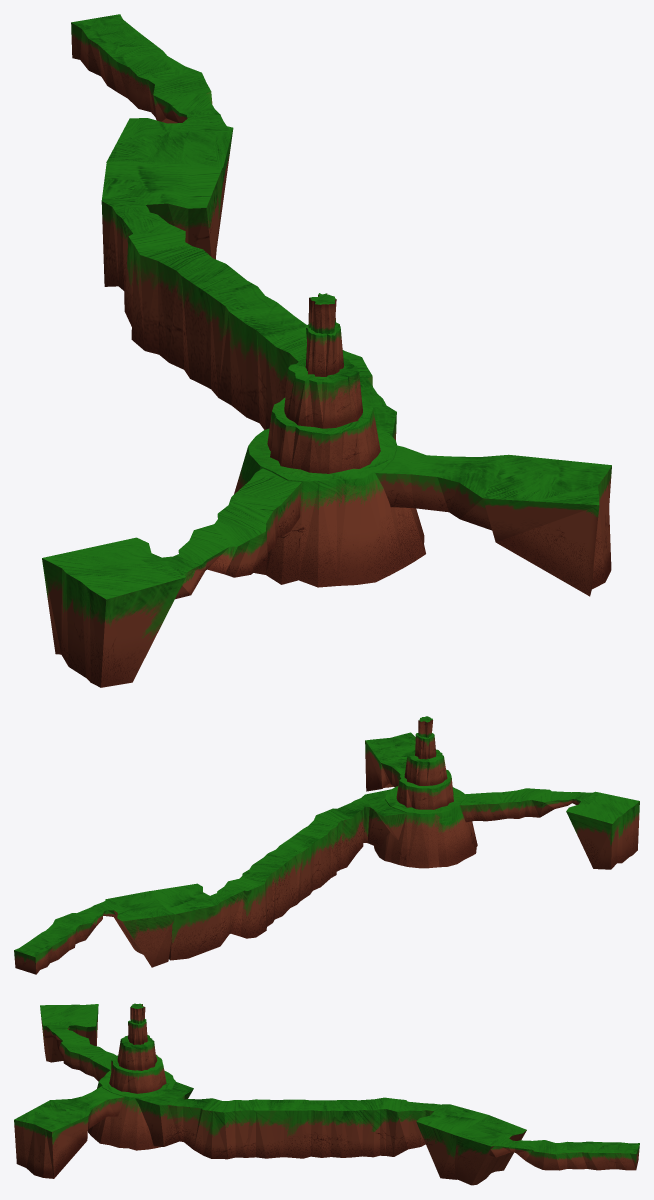
Rendered from IslandStart.fbx.
3 views of the same model, one above another, from view 1: azimuth 30°, elevation 25°; view 2: azimuth 150°, elevation 25°; view 3: azimuth 270°, elevation 25° (orthographic). The views are drawn at different scales.
Parts seen in each view (by area): view 1: Cube.003, Cylinder, Cube, Cube.001, Cube.004; view 2: Cube.003, Cylinder, Cube, Cube.004, Cube.001; view 3: Cube.003, Cube.004, Cylinder, Cube.001, Cube.
Part boxes in pixels (x1,y1,x2,y2): Cube.003: [101, 160, 396, 440]; Cylinder: [234, 293, 425, 587]; Cube: [42, 468, 301, 687]; Cube.001: [375, 445, 611, 596]; Cube.004: [71, 14, 233, 245]; Cube.003: [150, 789, 406, 960]; Cylinder: [374, 716, 477, 868]; Cube: [460, 788, 639, 869]; Cube.004: [14, 891, 174, 974]; Cube.001: [365, 732, 415, 791]; Cube.003: [135, 1082, 488, 1179]; Cube.004: [453, 1115, 639, 1185]; Cylinder: [87, 1003, 175, 1150]; Cube.001: [14, 1086, 124, 1178]; Cube: [40, 1004, 116, 1081].
Size of the model in its own units: 1389 by 539 by 2439.
